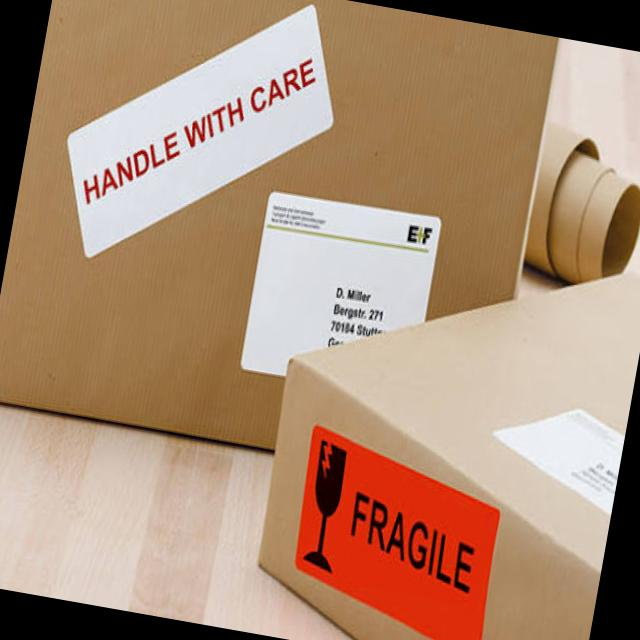fragile_label: (296, 424, 494, 640)
handle_with_care_label: (77, 21, 333, 258)
